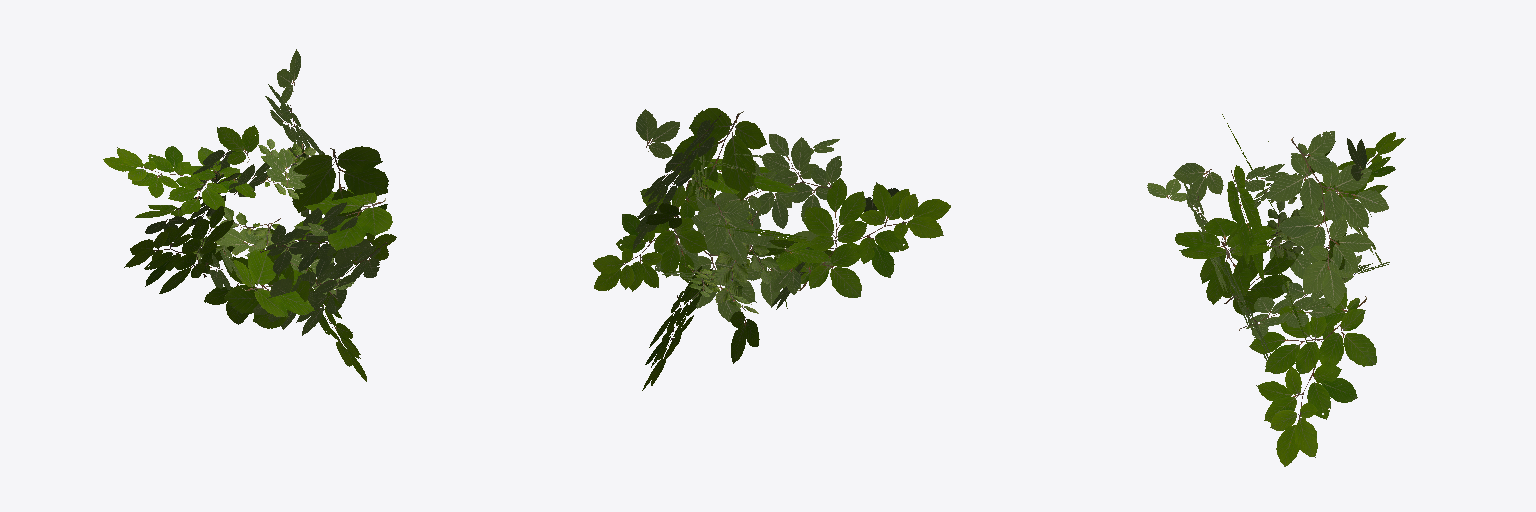
3 views of the same model, side by side, from view 1: azimuth 30°, elevation 25°; view 2: azimuth 150°, elevation 25°; view 3: azimuth 270°, elevation 25° (orthographic).
Parts seen in each view (by area): view 1: Plane.000_Plane.003; view 2: Plane.000_Plane.003; view 3: Plane.000_Plane.003.
Boxes of the visible parts, x1=… form: Plane.000_Plane.003: x1=103, y1=49, x2=396, y2=381; Plane.000_Plane.003: x1=593, y1=108, x2=950, y2=390; Plane.000_Plane.003: x1=1147, y1=114, x2=1405, y2=466.
Bounding box in the file's own units: 7.91 × 7.39 × 5.51.
1 materials, 1 textured.